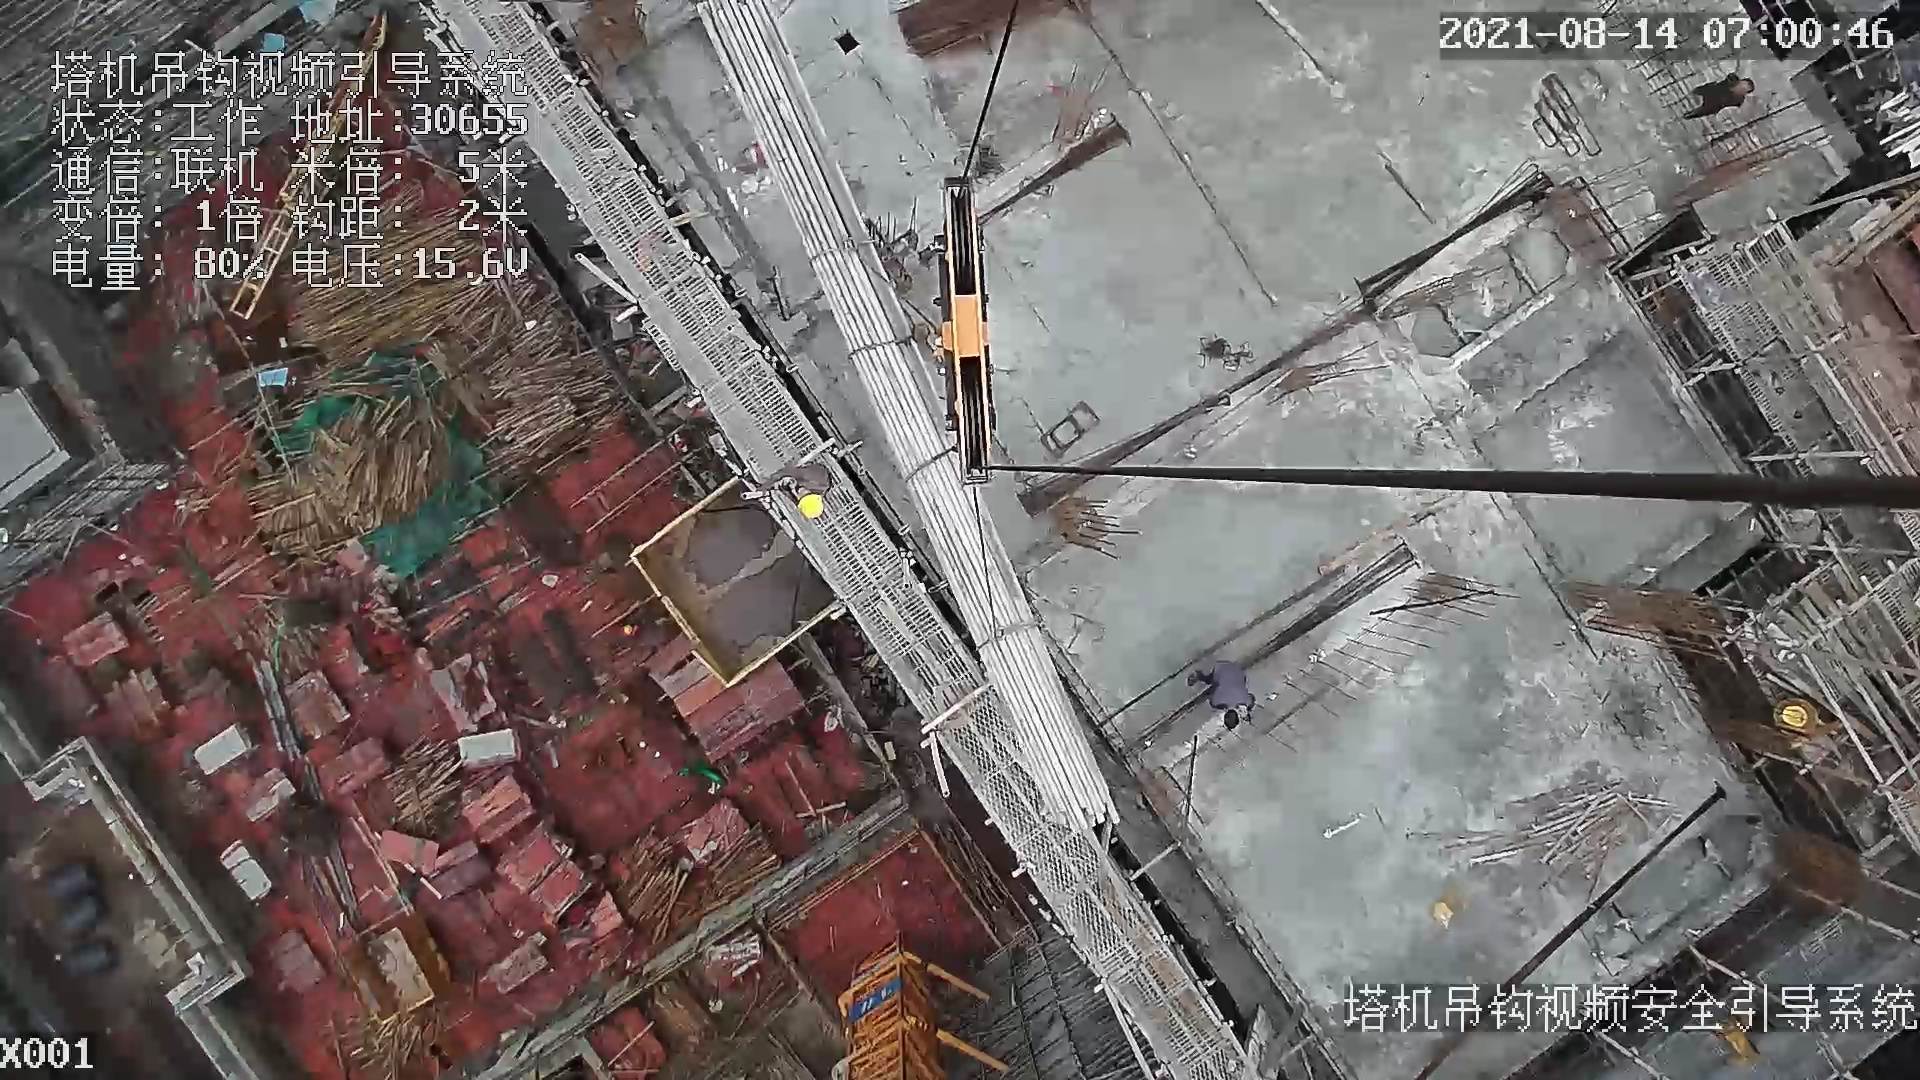helmet: (796, 491, 829, 521)
hook: (932, 174, 1006, 497)
person: (1187, 654, 1265, 736), (749, 460, 836, 518)
